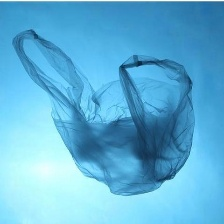plastic_bag: (5, 21, 201, 200)
